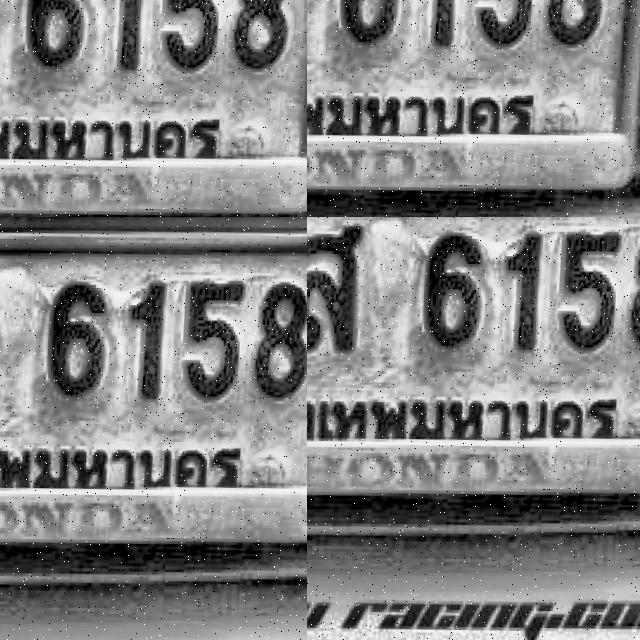license-plate: (307, 217, 640, 524), (0, 217, 307, 487)
